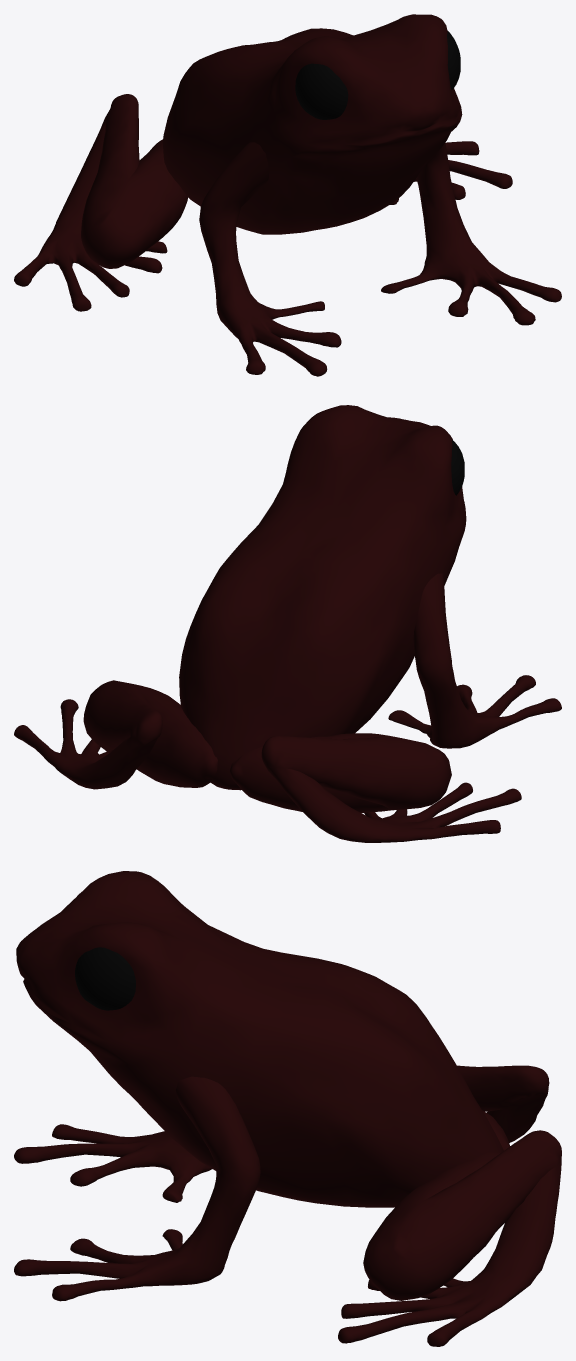
The model's file is Frog_02.fbx.
3 views of the same model, one above another, from view 1: azimuth 30°, elevation 25°; view 2: azimuth 150°, elevation 25°; view 3: azimuth 270°, elevation 25° (orthographic). The views are drawn at different scales.
Parts seen in each view (by area): view 1: Frog_02; view 2: Frog_02; view 3: Frog_02.
Boxes of the visible parts, <box> form: Frog_02: <box>14,14,561,376</box>; Frog_02: <box>14,405,561,842</box>; Frog_02: <box>14,871,561,1346</box>.
Bounding box in the file's own units: 50.41 × 28.63 × 44.45.
